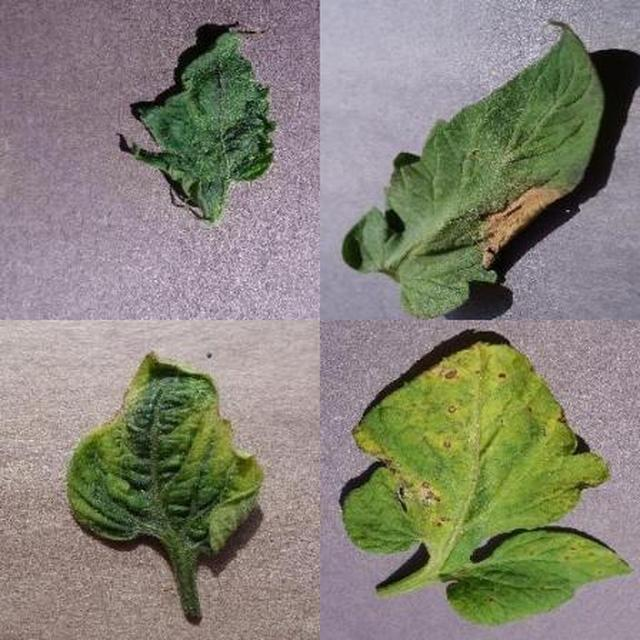Mosaic Virus Leaf: (217, 142, 640, 640)
